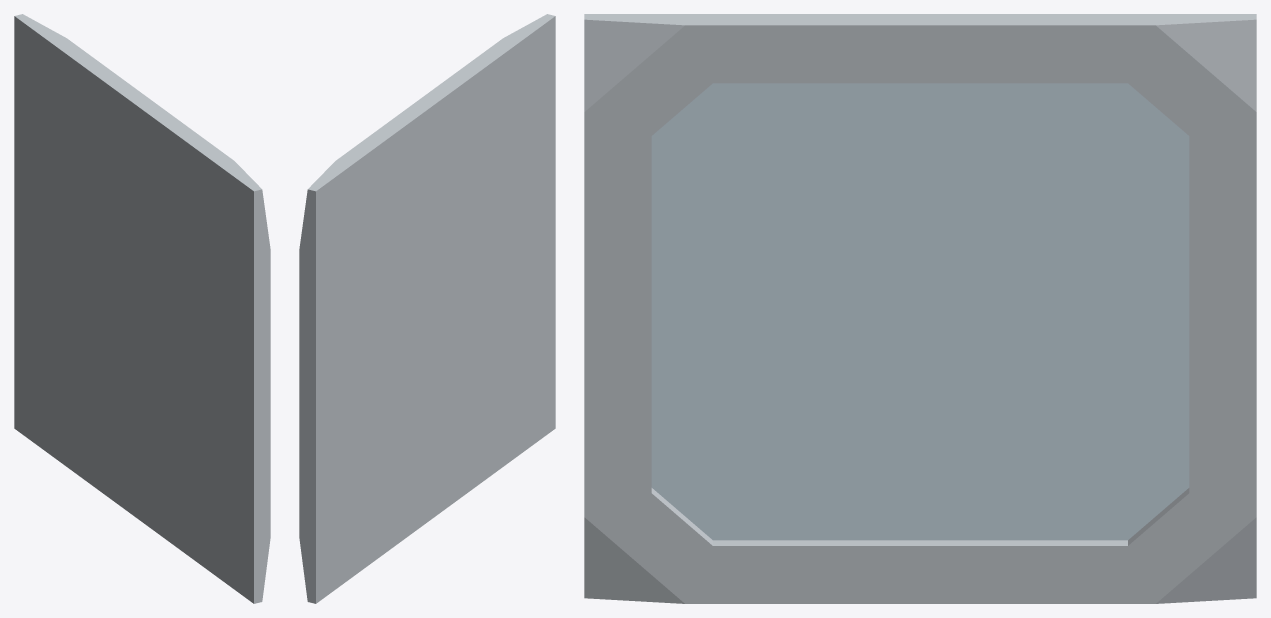
Rendered from wall-06.fbx.
3 renders of one model, left to right at view 1: azimuth 30°, elevation 25°; view 2: azimuth 150°, elevation 25°; view 3: azimuth 270°, elevation 25°, orthographic. The views are drawn at different scales.
Visible parts, largest first — view 1: wall-06; view 2: wall-06; view 3: wall-06.
Boxes of the visible parts, x1,y1,x2,y2 form: wall-06: (14,14,270,603); wall-06: (299,14,555,603); wall-06: (584,14,1256,603).
Size of the model in its own units: 4 by 95 by 100.
